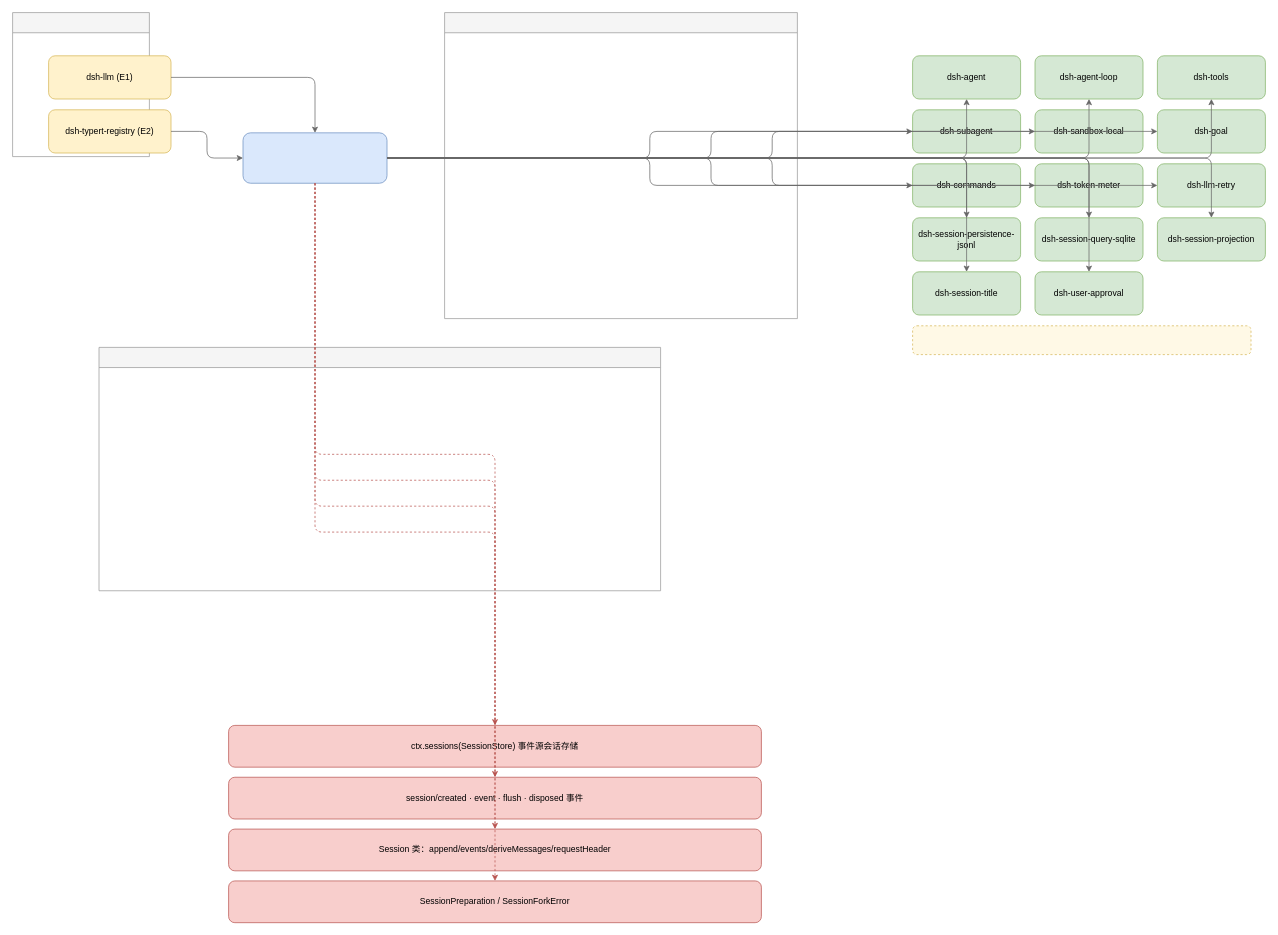
The diagram is 1278 pixels wide and 935 high, and some of its shapes have lost their labels. Here are the shapes that lost their labels. From the top down, the box of each, then its label:
(12, 12, 149, 157): 上游依赖 upstream (E1/E2/E3)
(242, 132, 387, 183): @deepseek-ai/dsh-session
(444, 12, 797, 319): 下游被依赖 dependents
(912, 325, 1251, 355): … 等共 26 个下游
(98, 347, 661, 591): 提供服务 provides（关键项）
